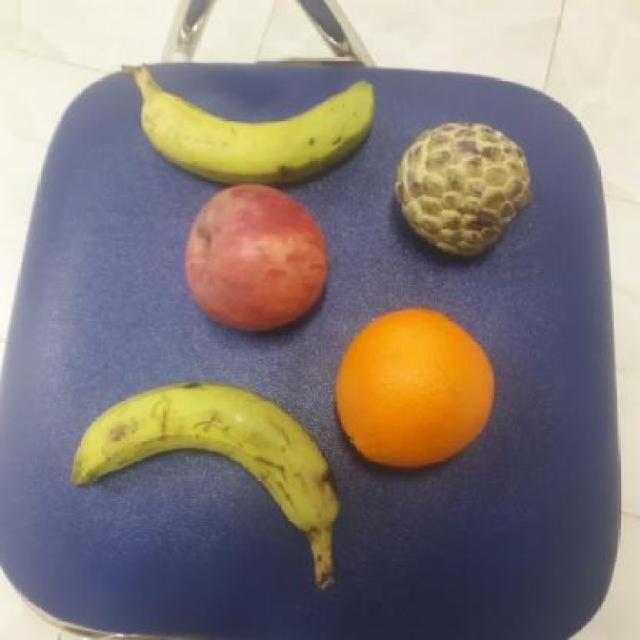apple: (183, 182, 328, 331)
banana: (70, 378, 342, 527), (134, 79, 380, 181)
pear: (331, 307, 497, 468)
sugar apple: (394, 119, 534, 258)
